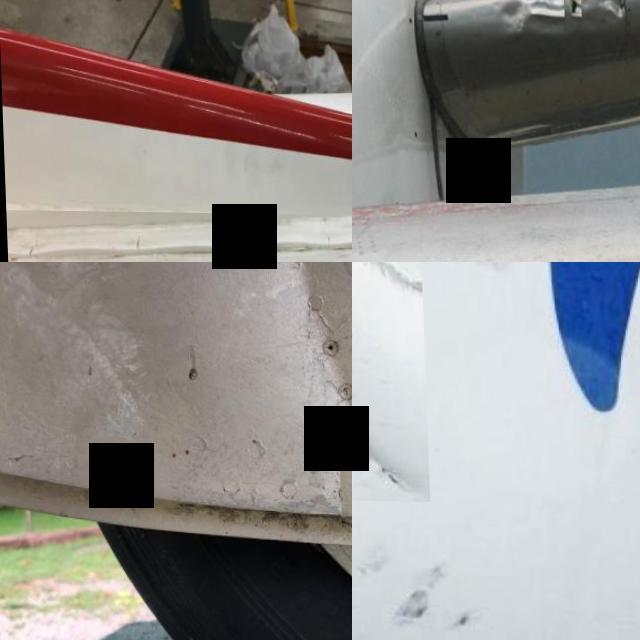Crack: (3, 209, 352, 262), (336, 449, 352, 526), (563, 0, 579, 21)
Dent: (352, 415, 428, 501), (491, 0, 640, 29)
